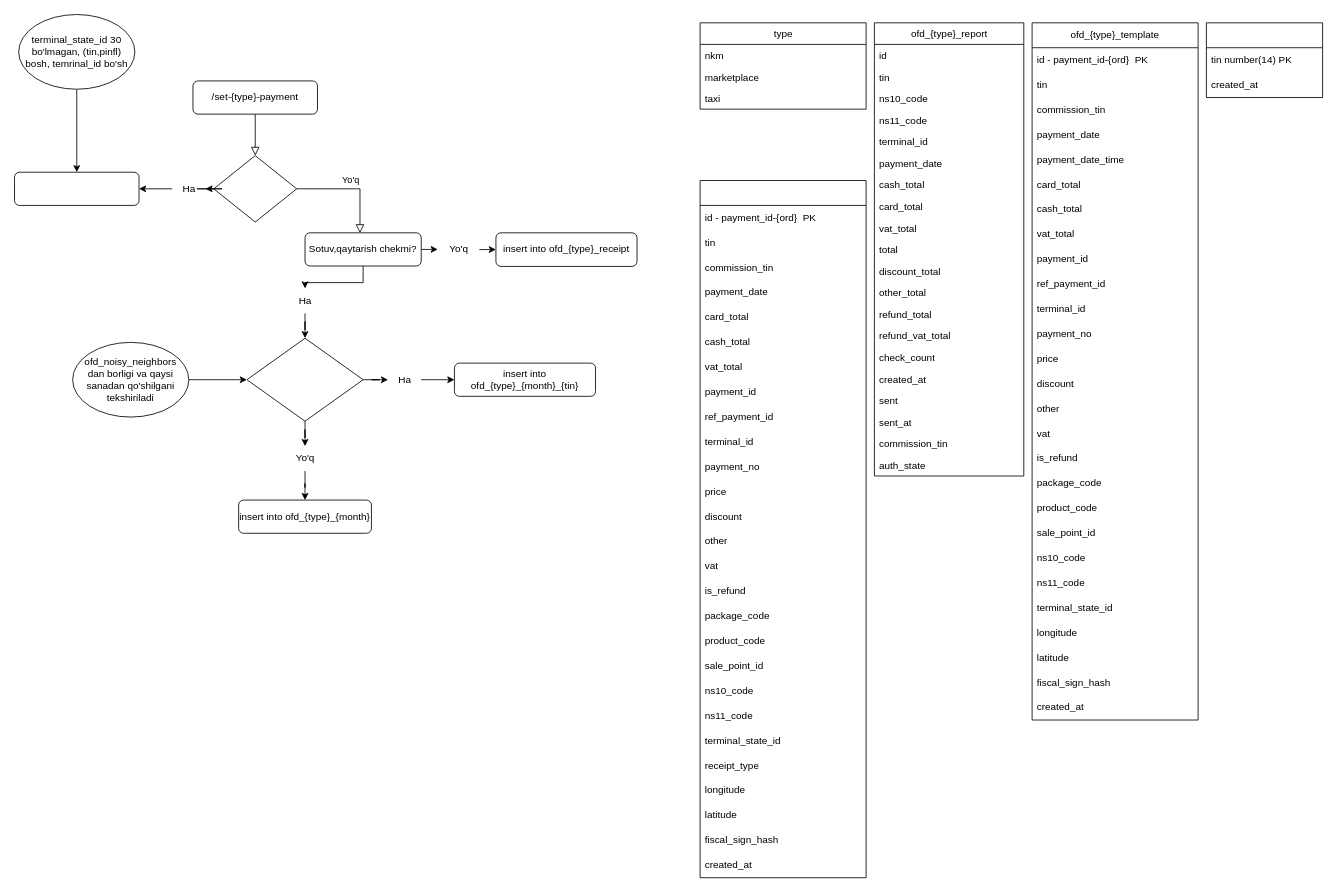
This 1337x892 diagram has some shape labels left out. Here are the shapes that lost their labels. From the top down, the box of each, then its label:
(1206, 22, 1323, 98): ofd_noisy_neighbors
(14, 171, 139, 205): ofd_{type}_payment_test
(213, 155, 297, 222): Test chekmi?
(246, 337, 363, 421): Ko'p chek jo'natuvchimi?
(699, 180, 866, 878): ofd_{type}_receipt_template
